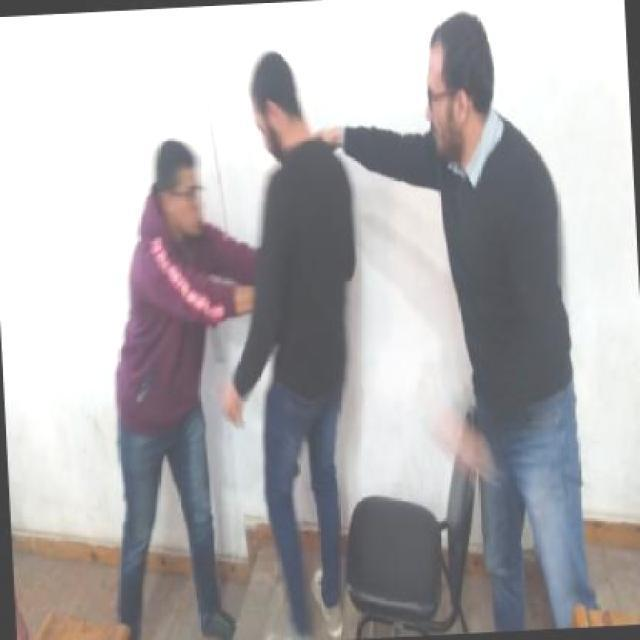fight: (116, 45, 364, 458)
